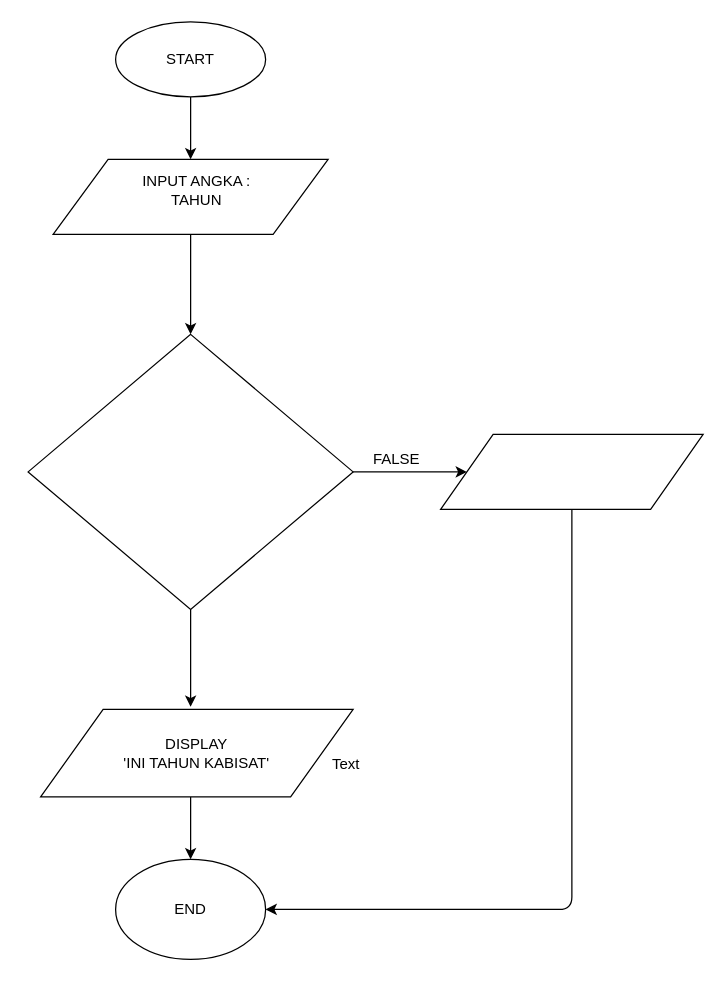
Some shapes in this 725 by 981 pixel diagram are drawn without their labels. Each missing label, with the centre of its shape:
DISPLAY 'TAHUN INI BUKAN TAHUN KABISAT': the point at 571,471
TAHUN %4 = 0 AND TAHUN %100 = 0 AND TAHUN %400 = 0: the point at 190,471
